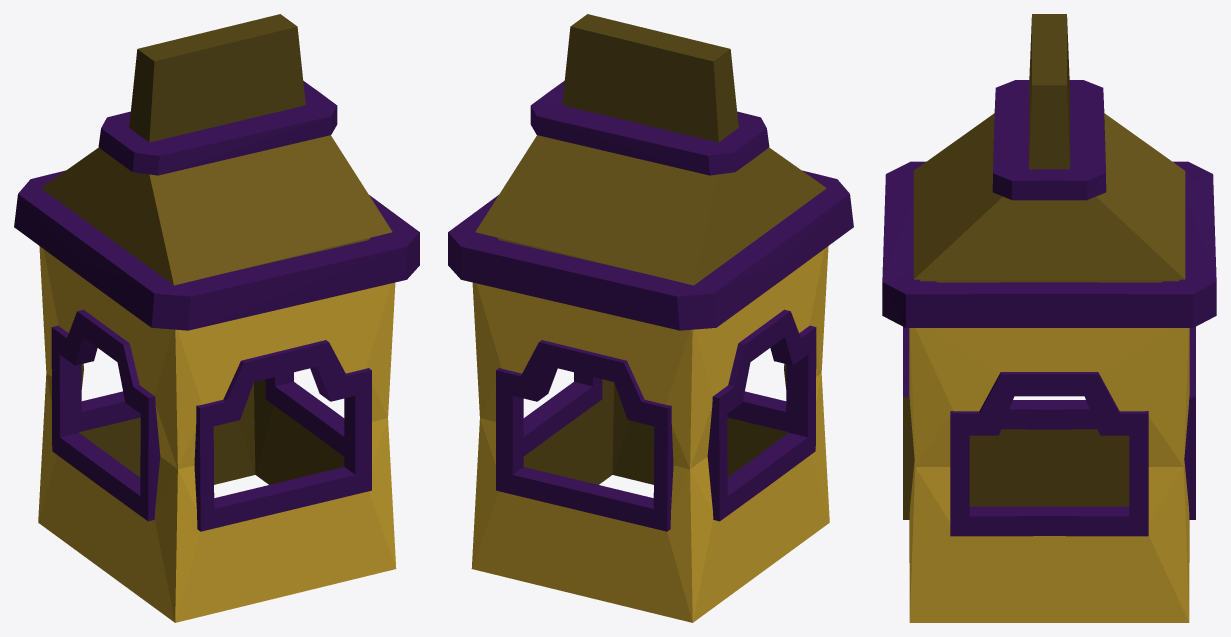
File: Altar 1.FBX
3 views of the same model, side by side, from view 1: azimuth 30°, elevation 25°; view 2: azimuth 150°, elevation 25°; view 3: azimuth 270°, elevation 25° (orthographic). The views are drawn at different scales.
Visible parts, largest first — view 1: watch tower; view 2: watch tower; view 3: watch tower.
Part boxes in pixels (<box>): watch tower: <box>14,14,419,622</box>; watch tower: <box>448,14,853,622</box>; watch tower: <box>882,14,1216,622</box>.
Bounding box in the file's own units: 1137 × 2065 × 1207.
